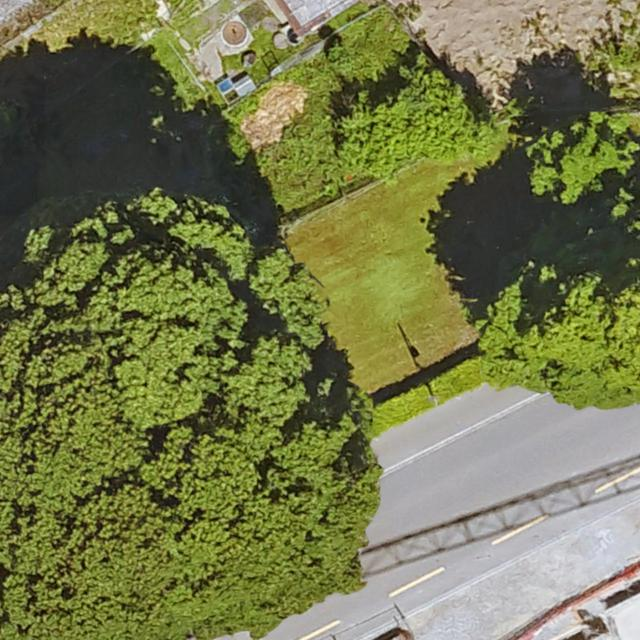tree: (0, 195, 388, 640), (487, 109, 640, 407), (315, 49, 469, 177)
